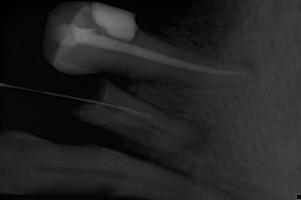Furcation Involvement: (183, 119, 215, 153), (230, 58, 262, 85)
